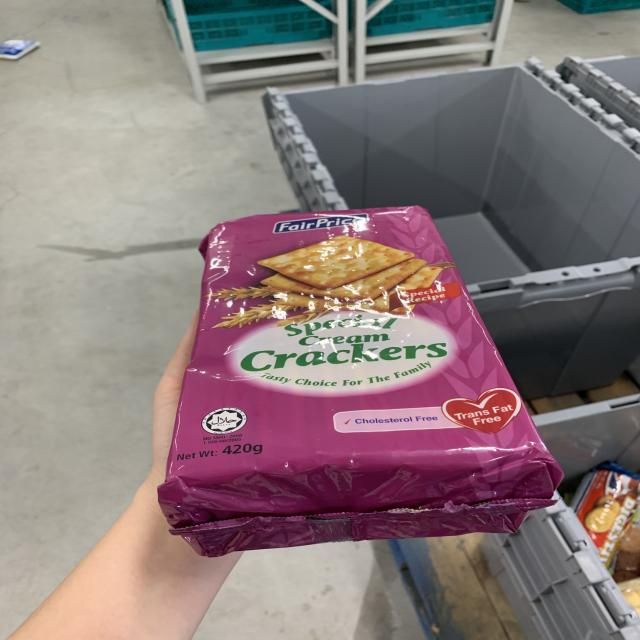object_name: (169, 220, 536, 528)
